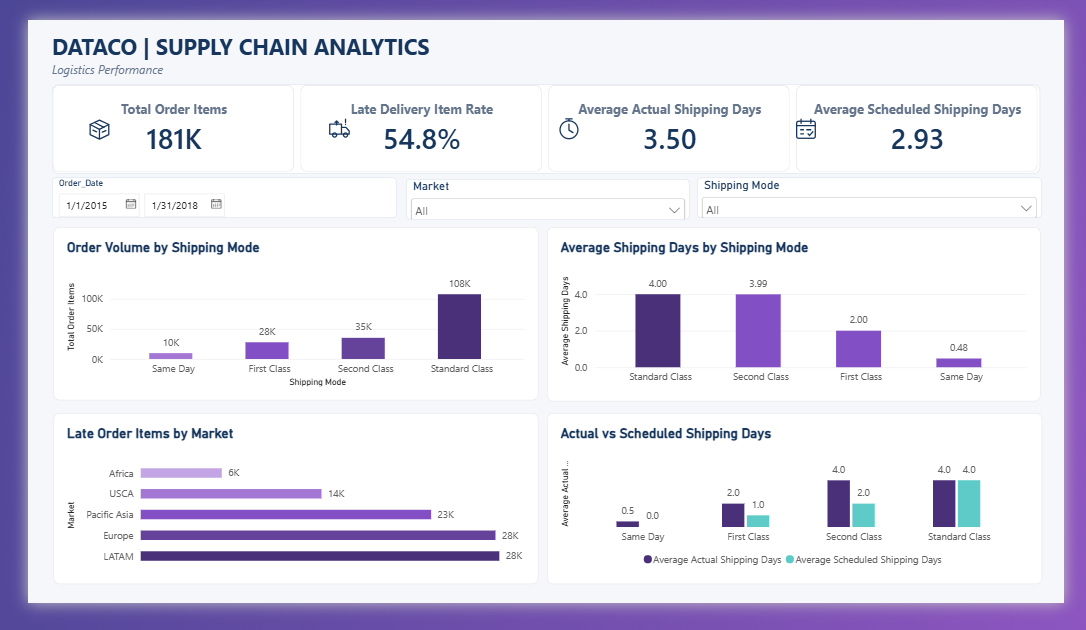

Layout of this report page (visuals, bound fields, positions):
{"tool":"powerbi","page":{"name":"Logistics Performance","canvas":[1280,720],"ordinal":1},"visuals":[{"type":"cardVisual","fields":{"Data":["Measure.Total Order Items","Measure.Late Delivery Rate","Measure.Average Actual Shipping Days","Measure.Average Scheduled Shipping Days"]},"box":[30,80.2,1220,109.8],"z":0,"group":"g1"},{"type":"clusteredColumnChart","title":"Order Volume by Shipping Mode","fields":{"Category":["DataCo_SupplyChain.Shipping Mode"],"Y":["Measure.Total Order Items"]},"box":[31,254.8,598.8,214.3],"z":0},{"type":"textbox","box":[30,15,900,65.2],"z":1000,"group":"g1"},{"type":"image","box":[71.9,118.8,32,32],"z":2000,"group":"g1"},{"type":"image","box":[368.9,118.8,32,32],"z":3000,"group":"g1"},{"type":"slicer","fields":{"Values":["DataCo_SupplyChain.Order_Date"]},"box":[29.7,195,425,50],"z":3000},{"type":"image","box":[651.8,118.8,32,32],"z":4000,"group":"g1"},{"type":"slicer","fields":{"Values":["DataCo_SupplyChain.Market"]},"box":[465.8,195.4,350,50],"z":4000},{"type":"image","box":[945.6,118.8,32,32],"z":5000,"group":"g1"},{"type":"slicer","fields":{"Values":["DataCo_SupplyChain.Shipping Mode"]},"box":[825.3,195,425.1,50],"z":5000},{"type":"clusteredColumnChart","title":"Average Shipping Days by Shipping Mode","fields":{"Category":["DataCo_SupplyChain.Shipping Mode"],"Y":["Measure.Average Actual Shipping Days"]},"box":[640.5,254.8,609.5,215.5],"z":6000},{"type":"clusteredBarChart","title":"Late Order Items by Market","fields":{"Category":["DataCo_SupplyChain.Market"],"Y":["Measure.Late Order Items"]},"box":[30.6,484.7,598.6,211.1],"z":7000},{"type":"clusteredColumnChart","title":"Actual vs Scheduled Shipping Days","fields":{"Category":["DataCo_SupplyChain.Shipping Mode"],"Y":["Measure.Average Actual Shipping Days","Measure.Average Scheduled Shipping Days"]},"box":[640.3,484.7,611.1,211.1],"z":8000},{"type":"group","id":"g1","title":"Group 1","box":[30,15,1220,175],"z":11002}]}

Visuals, with their boxes on the page's 1280x720 design canvas (x1, y1, x2, y2). These are canvas units, not pixel positions in the 1086x630 screenshot, which may show the page scaled, cropped or inside an application window:
cardVisual - Measure.Total Order Items x Measure.Late Delivery Rate: <box>30,80,1250,190</box>
"Order Volume by Shipping Mode" clusteredColumnChart: <box>31,255,630,469</box>
textbox: <box>30,15,930,80</box>
image: <box>72,119,104,151</box>
image: <box>369,119,401,151</box>
slicer - DataCo_SupplyChain.Order_Date: <box>30,195,455,245</box>
image: <box>652,119,684,151</box>
slicer - DataCo_SupplyChain.Market: <box>466,195,816,245</box>
image: <box>946,119,978,151</box>
slicer - DataCo_SupplyChain.Shipping Mode: <box>825,195,1250,245</box>
"Average Shipping Days by Shipping Mode" clusteredColumnChart: <box>640,255,1250,470</box>
"Late Order Items by Market" clusteredBarChart: <box>31,485,629,696</box>
"Actual vs Scheduled Shipping Days" clusteredColumnChart: <box>640,485,1251,696</box>
"Group 1" group: <box>30,15,1250,190</box>
